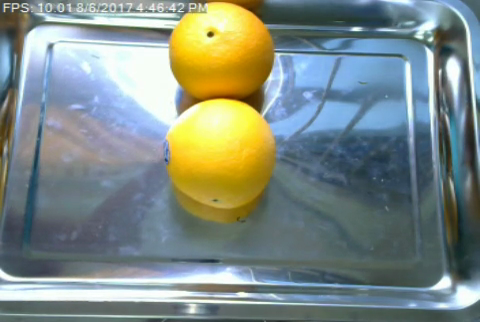Orange: (163, 98, 274, 208), (167, 0, 274, 99)
